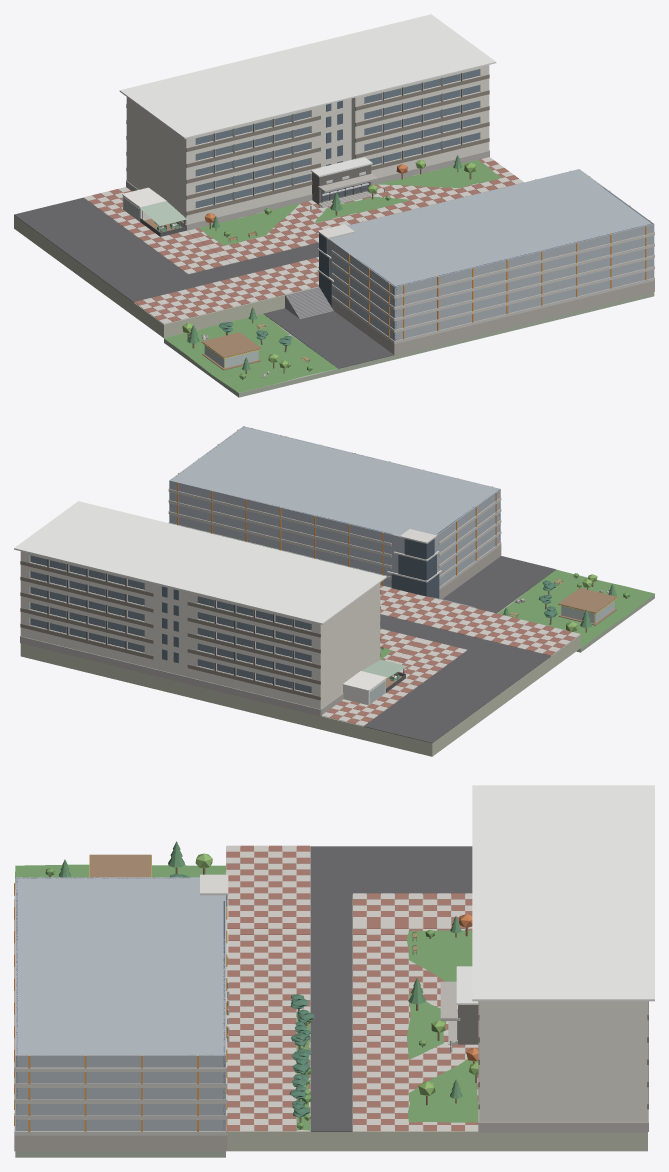
Rendered from zone1.glb.
The picture shows the model from 3 angles, top to bottom: view 1: azimuth 30°, elevation 25°; view 2: azimuth 150°, elevation 25°; view 3: azimuth 270°, elevation 25°; orthographic projection. The views are drawn at different scales.
Parts seen in each view (by area): view 1: Gyeongyeonggwan_Core, Hyehwagwan_RoofCap, Hyehwagwan_WingLeft, Road_Asphalt_Branch, Hyehwagwan_WingRight, GrassZone_GGCourt, Terrain_Upper, Gyeongyeonggwan_Base_S, Road_Asphalt, Terrain_Lower, GGCourt_Asphalt_East, GrassZone_Left (+25 smaller); view 2: Gyeongyeonggwan_Core, Hyehwagwan_RoofCap, Hyehwagwan_WingLeft, Terrain_Upper, Road_Asphalt_Branch, Hyehwagwan_WingRight, GrassZone_GGCourt, Hyehwagwan_Core, Road_Asphalt, Hyehwagwan_Skirt_Back, GGCourt_Asphalt_East, GGCourt_Asphalt_West (+18 smaller); view 3: Gyeongyeonggwan_Core, Hyehwagwan_RoofCap, Hyehwagwan_WingRight, Road_Asphalt, Terrain_Upper, Road_Asphalt_Branch, Gyeongyeonggwan_Base_E, GrassZone_Right, GrassZone_Left, Hyehwagwan_Skirt_Right, GrassZone_GGCourt, GardenPavilion_RoofSlab (+11 smaller).
Part boxes in pixels (<box>): Gyeongyeonggwan_Core: <box>327,169,654,340</box>; Hyehwagwan_RoofCap: <box>119,14,496,138</box>; Hyehwagwan_WingLeft: <box>126,97,320,224</box>; Road_Asphalt_Branch: <box>14,198,187,291</box>; Hyehwagwan_WingRight: <box>351,65,489,177</box>; GrassZone_GGCourt: <box>164,314,337,392</box>; Terrain_Upper: <box>14,215,318,337</box>; Gyeongyeonggwan_Base_S: <box>394,281,654,355</box>; Road_Asphalt: <box>119,242,318,302</box>; Terrain_Lower: <box>164,292,654,397</box>; GGCourt_Asphalt_East: <box>300,311,394,363</box>; GrassZone_Left: <box>199,203,300,245</box>; Gyeongyeonggwan_Core: <box>169,426,500,587</box>; Hyehwagwan_RoofCap: <box>14,501,386,624</box>; Hyehwagwan_WingLeft: <box>188,583,380,709</box>; Terrain_Upper: <box>20,624,580,756</box>; Road_Asphalt_Branch: <box>363,650,535,743</box>; Hyehwagwan_WingRight: <box>20,551,153,668</box>; GrassZone_GGCourt: <box>498,569,654,647</box>; Hyehwagwan_Core: <box>153,584,187,676</box>; Road_Asphalt: <box>380,614,550,666</box>; Hyehwagwan_Skirt_Back: <box>20,636,320,716</box>; GGCourt_Asphalt_East: <box>442,556,534,607</box>; GGCourt_Asphalt_West: <box>475,564,555,613</box>; Gyeongyeonggwan_Core: <box>15,877,225,1131</box>; Hyehwagwan_RoofCap: <box>472,785,654,1001</box>; Hyehwagwan_WingRight: <box>479,1001,647,1122</box>; Road_Asphalt: <box>310,846,352,1131</box>; Terrain_Upper: <box>226,847,647,1151</box>; Road_Asphalt_Branch: <box>352,846,472,893</box>; Gyeongyeonggwan_Base_E: <box>15,1135,225,1151</box>; GrassZone_Right: <box>408,1059,478,1122</box>; GrassZone_Left: <box>406,930,472,981</box>; Hyehwagwan_Skirt_Right: <box>479,1122,647,1132</box>; GrassZone_GGCourt: <box>15,864,225,888</box>; GardenPavilion_RoofSlab: <box>89,854,151,877</box>.
Bounding box in the file's own units: 97.38 × 25.3 × 91.18.
